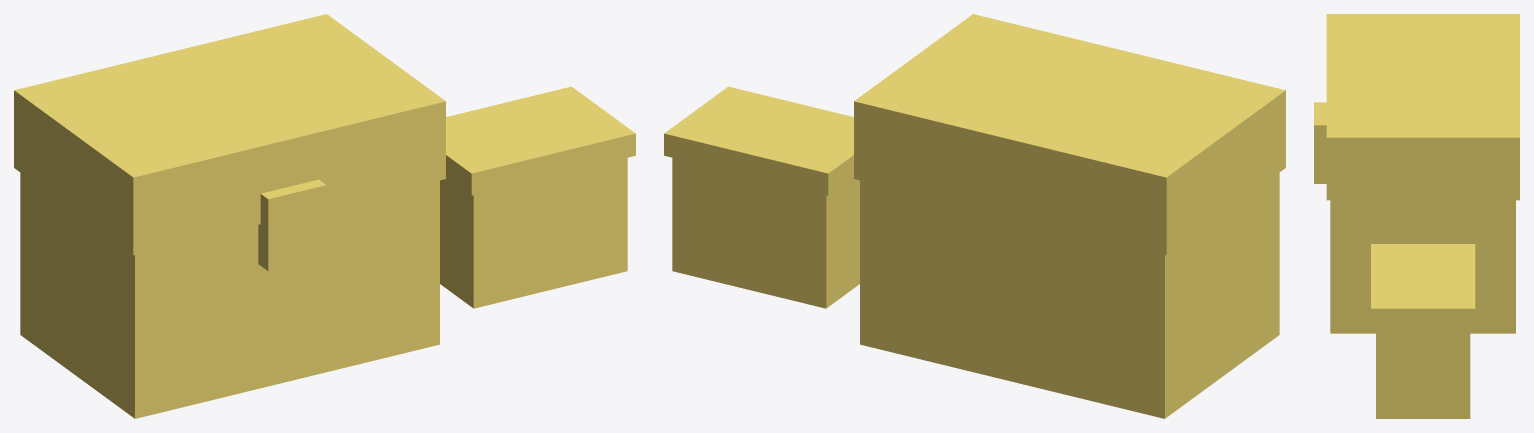
Rendered from sm_treasure_chest.glb.
3 views of the same model, side by side, from view 1: azimuth 30°, elevation 25°; view 2: azimuth 150°, elevation 25°; view 3: azimuth 270°, elevation 25° (orthographic). The views are drawn at different scales.
Visible parts, largest first — view 1: GoldenTreasureChestAndAmmo; view 2: GoldenTreasureChestAndAmmo; view 3: GoldenTreasureChestAndAmmo.
Boxes of the visible parts, box(x1,y1,x2,y2) form: GoldenTreasureChestAndAmmo: box(14, 14, 635, 418); GoldenTreasureChestAndAmmo: box(664, 14, 1285, 418); GoldenTreasureChestAndAmmo: box(1314, 14, 1519, 418).
Bounding box in the file's own units: 2 × 0.88 × 0.83.
